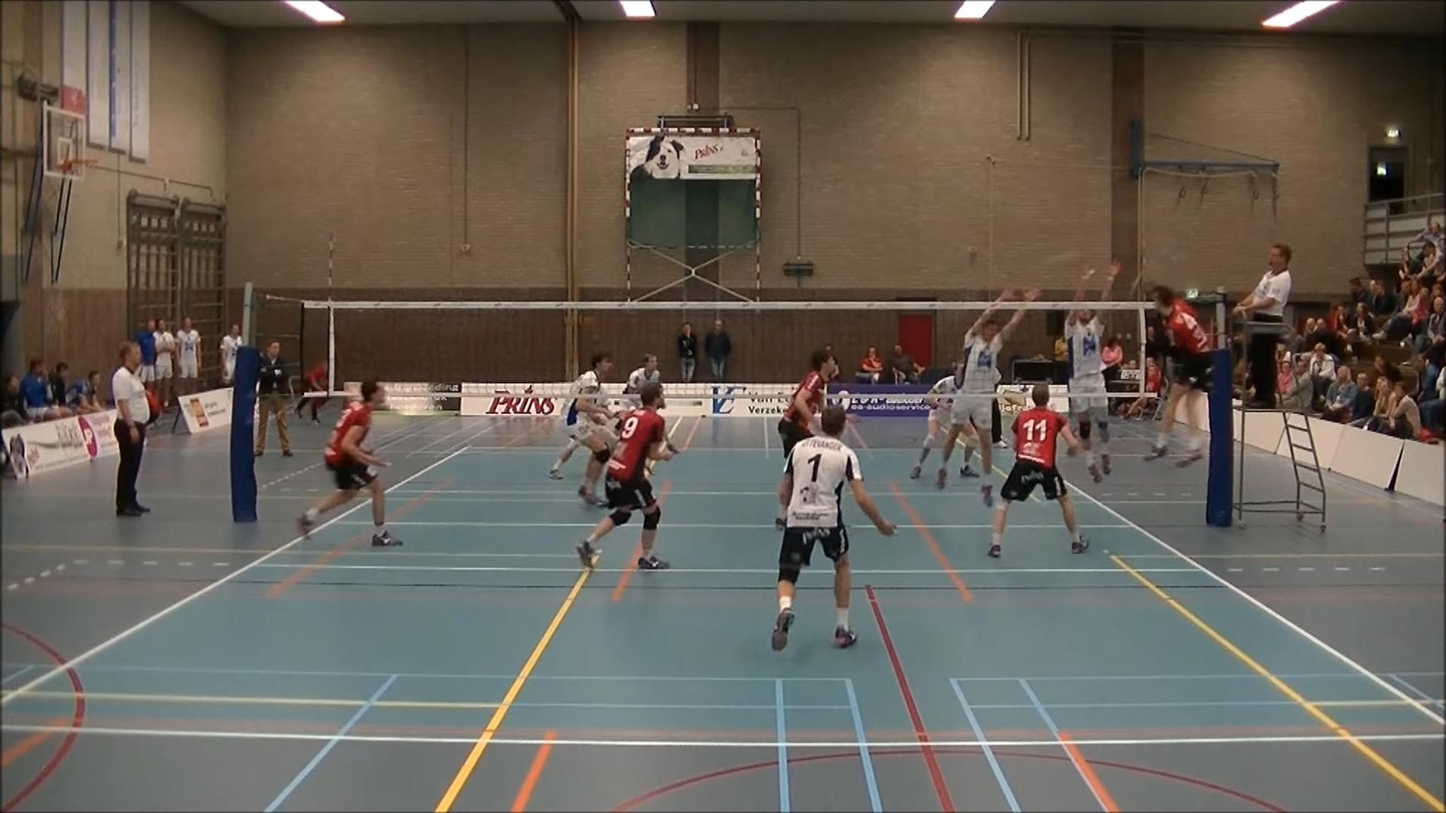Attack: (1128, 280, 1242, 468)
Block: (931, 275, 1045, 520), (1067, 254, 1126, 482)
Player: (771, 406, 895, 650), (576, 382, 674, 570), (988, 383, 1088, 557), (298, 380, 401, 547), (550, 354, 615, 506), (910, 362, 977, 479), (777, 350, 836, 459), (624, 354, 660, 406)
